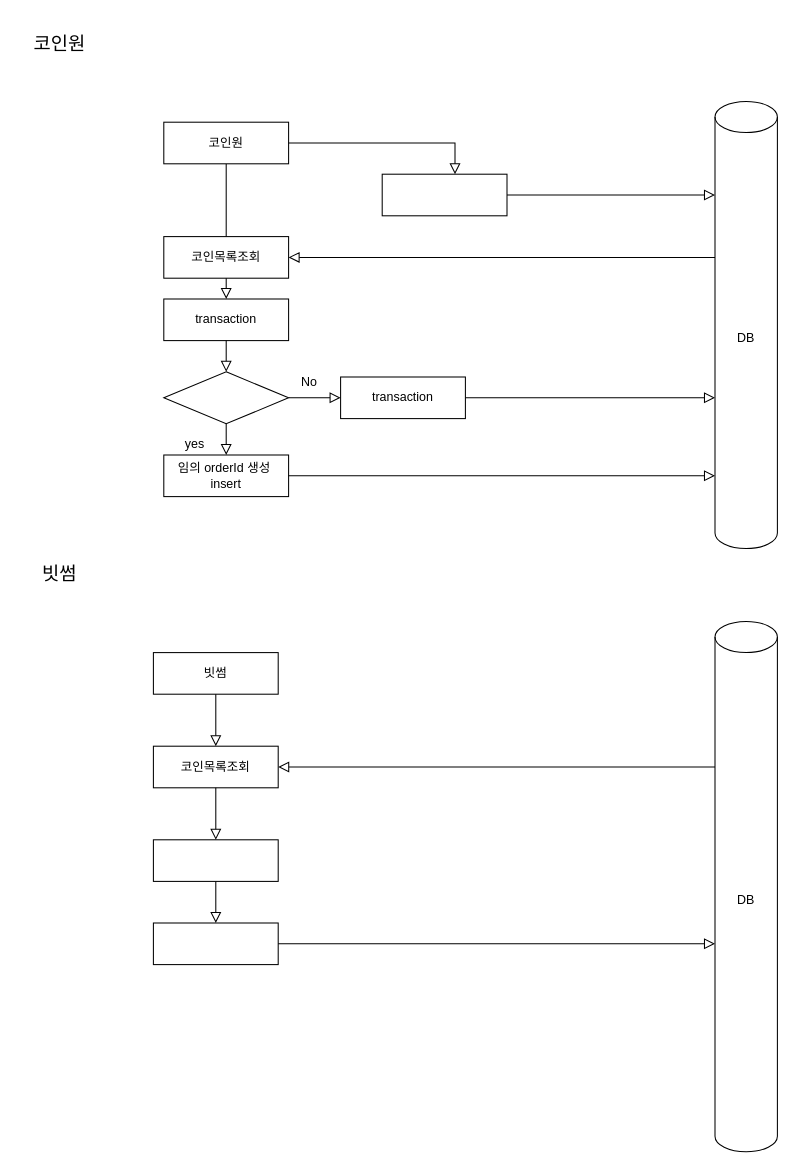
Some shapes in this 796 by 1170 pixel diagram are drawn without their labels. The centre of each missing label's shape, as x and y in pixels:
"orderId 같은가" goes at pixel 226 397.
"OrderId 생성" goes at pixel 215 943.
"거래내역 API transaction()" goes at pixel 215 860.
"입출금 API" goes at pixel 444 194.
